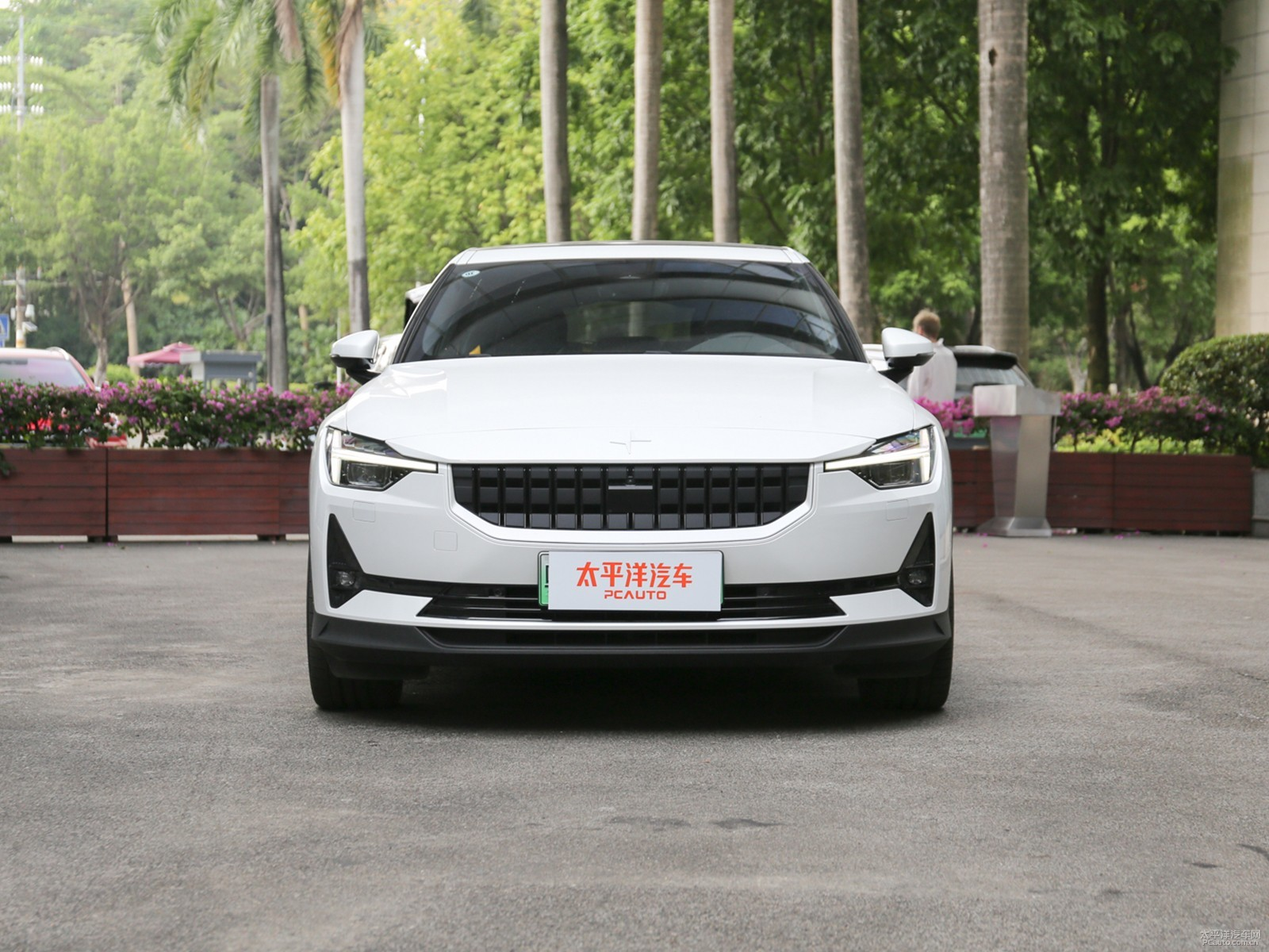Polestar: (609, 431, 650, 454)
